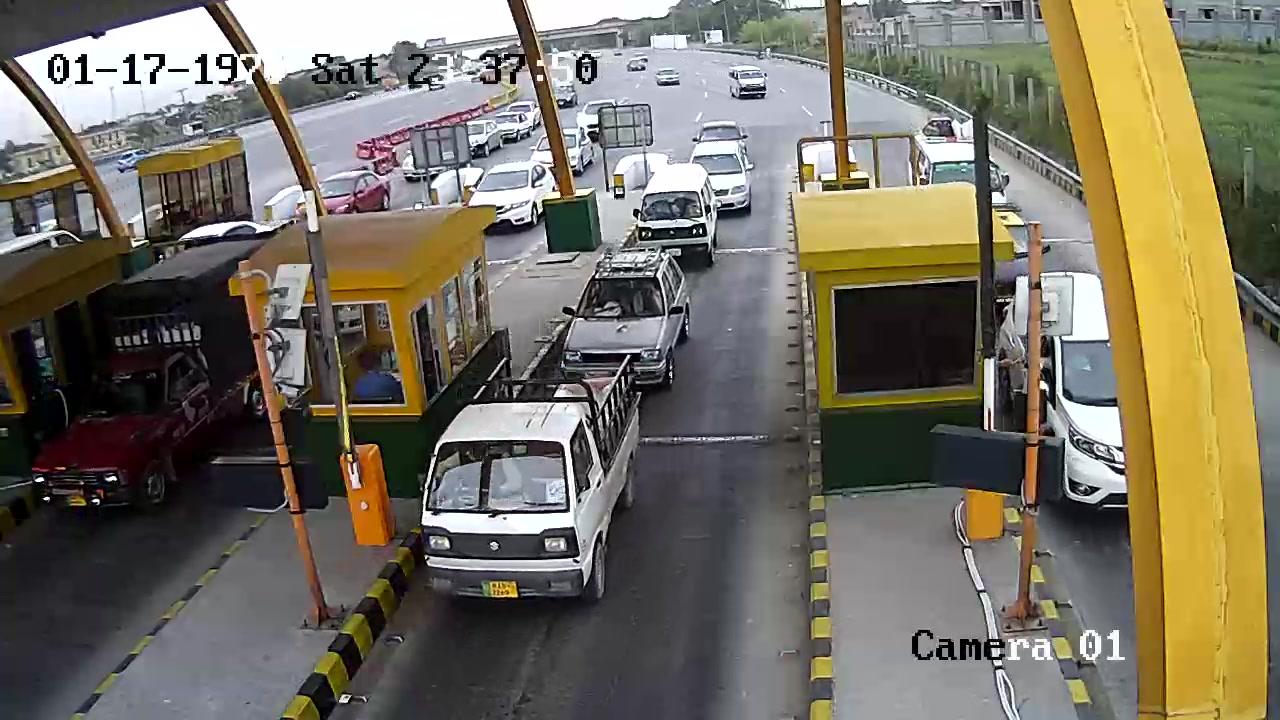F1: (427, 359, 643, 607), (539, 248, 710, 396)
